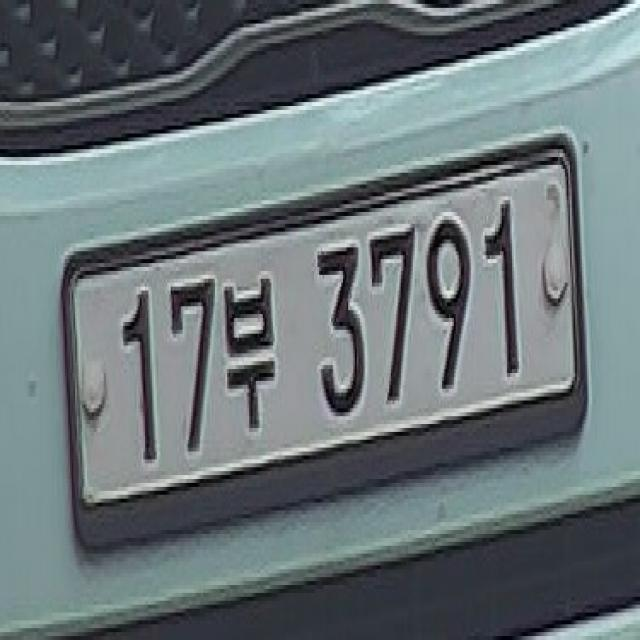1: (478, 188, 526, 392), (118, 275, 164, 479)
3: (312, 224, 369, 428)
7: (367, 216, 423, 420), (164, 263, 220, 459)
9: (425, 204, 474, 408)
bu: (222, 263, 280, 444)
license_plate: (58, 122, 591, 565)
